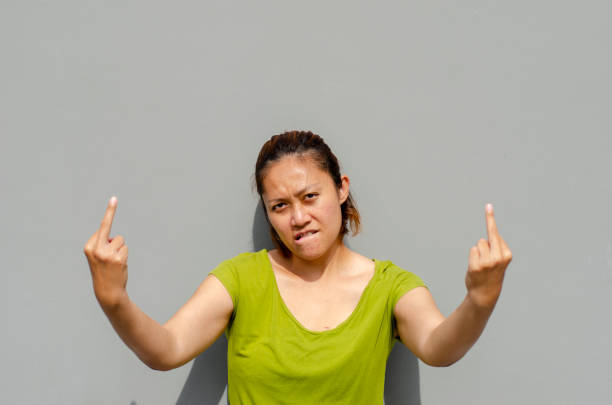insulting_gesture: (463, 201, 516, 311), (86, 193, 132, 311)
